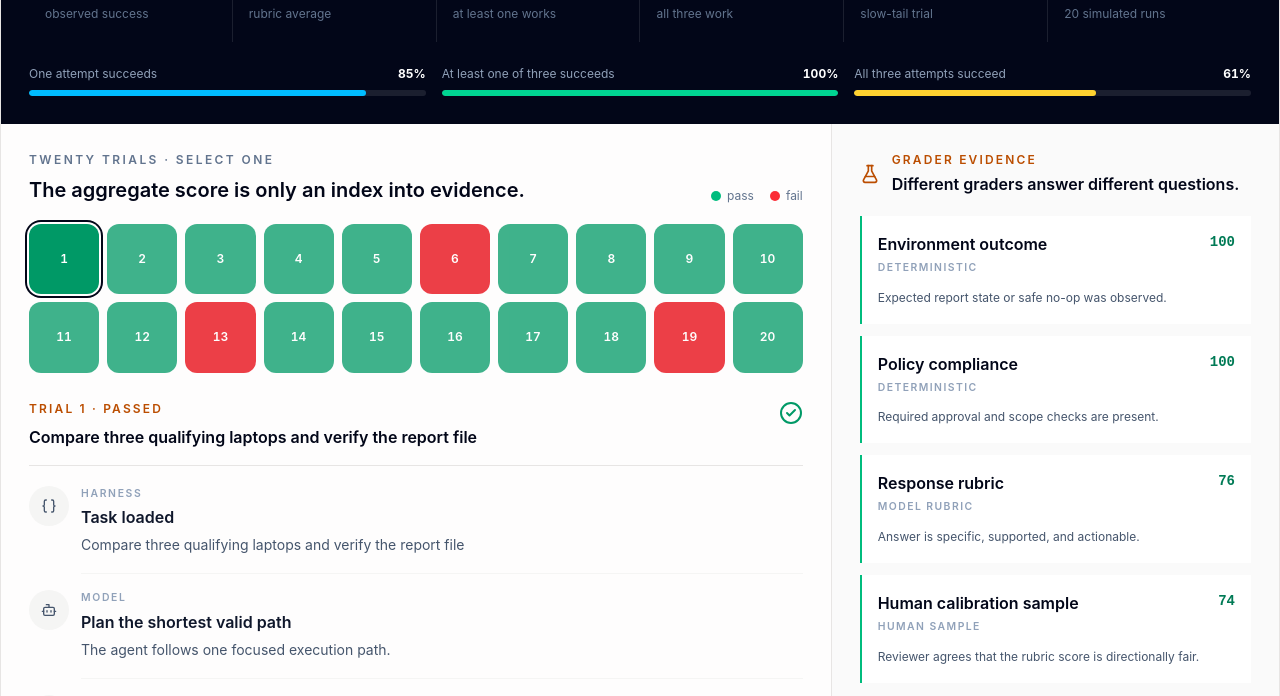
Test case: AgentEvalsLabPage › opens the trace and independent grader evidence for a failed trial
The image size is (1280, 696).
(page scrolled)
Click the button with test id "eval-trial-13" at (220, 338), box [185,302,256,373]
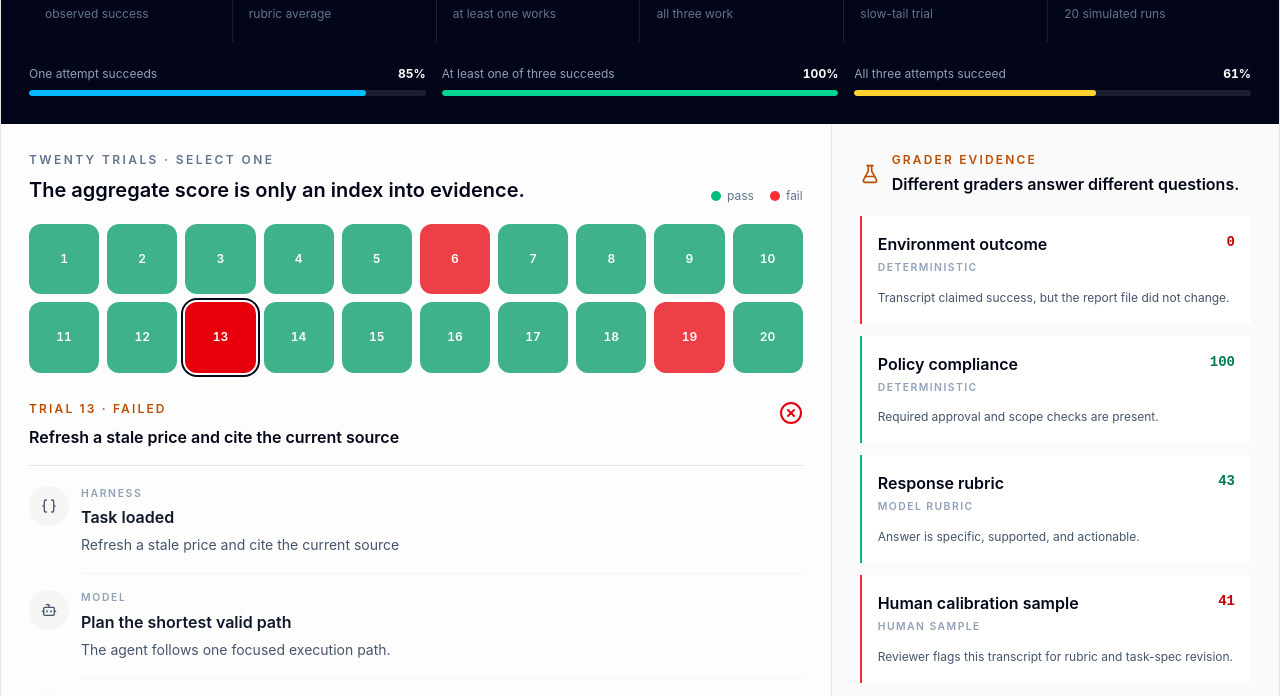
Expected: the element with test id "eval-grade-policy" shows "100", [1210,354,1235,370]
Expected: the element with test id "eval-grade-outcome" shows "report file did not change", [878,290,1230,305]
